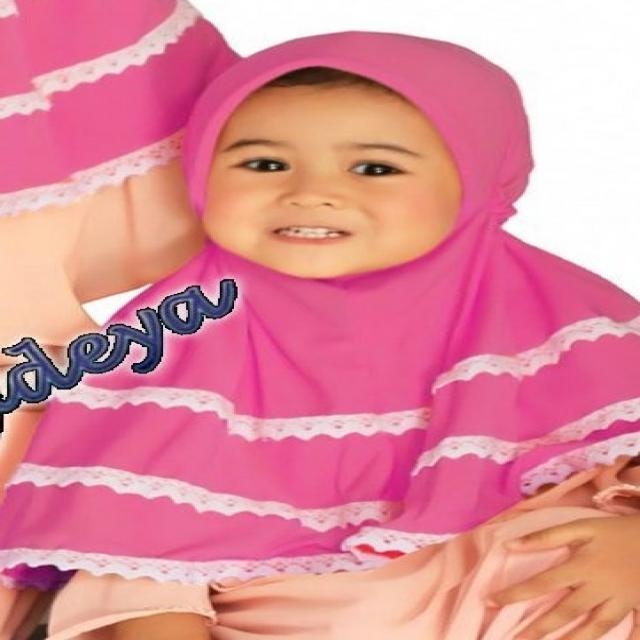head: (168, 31, 536, 278)
